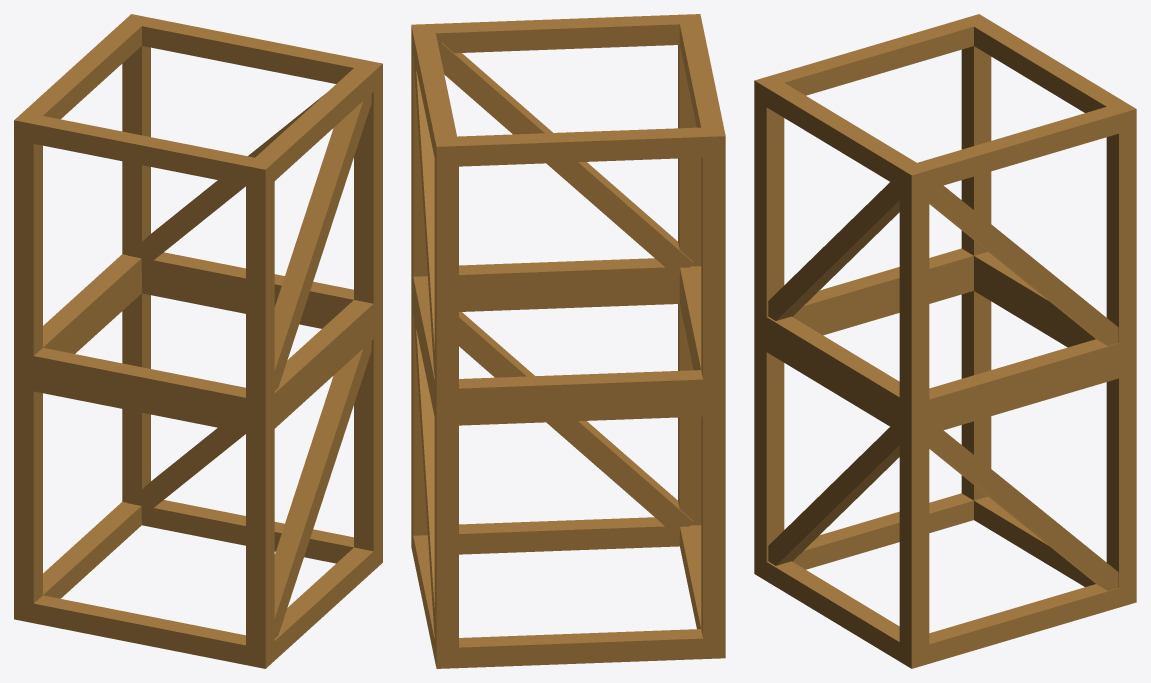
The model's file is vox_hoist.glb.
The picture shows the model from 3 angles, left to right: view 1: azimuth 30°, elevation 25°; view 2: azimuth 150°, elevation 25°; view 3: azimuth 270°, elevation 25°; orthographic projection. The views are drawn at different scales.
Visible parts, largest first — view 1: Object_115, Object_105, Object_108, Object_118, Object_121, Object_111; view 2: Object_115, Object_105, Object_118, Object_108, Object_111, Object_121; view 3: Object_115, Object_105, Object_121, Object_111, Object_118, Object_108.
Boxes of the visible parts, x1,y1,x2,y2 form: Object_115: (14,14,382,421); Object_105: (14,274,382,668); Object_108: (274,341,371,638); Object_118: (274,94,371,390); Object_121: (127,93,325,269); Object_111: (127,428,245,517); Object_115: (411,14,725,409); Object_105: (411,283,725,668); Object_118: (438,42,693,277); Object_108: (459,312,693,536); Object_111: (414,318,459,644); Object_121: (414,59,459,385); Object_115: (754,14,1136,419); Object_105: (754,271,1136,668); Object_121: (929,185,1118,345); Object_111: (929,430,1118,590); Object_118: (768,182,899,320); Object_108: (768,427,899,565).
Bounding box in the file's own units: 6.32 × 9 × 6.32.
6 materials, 6 textured.
